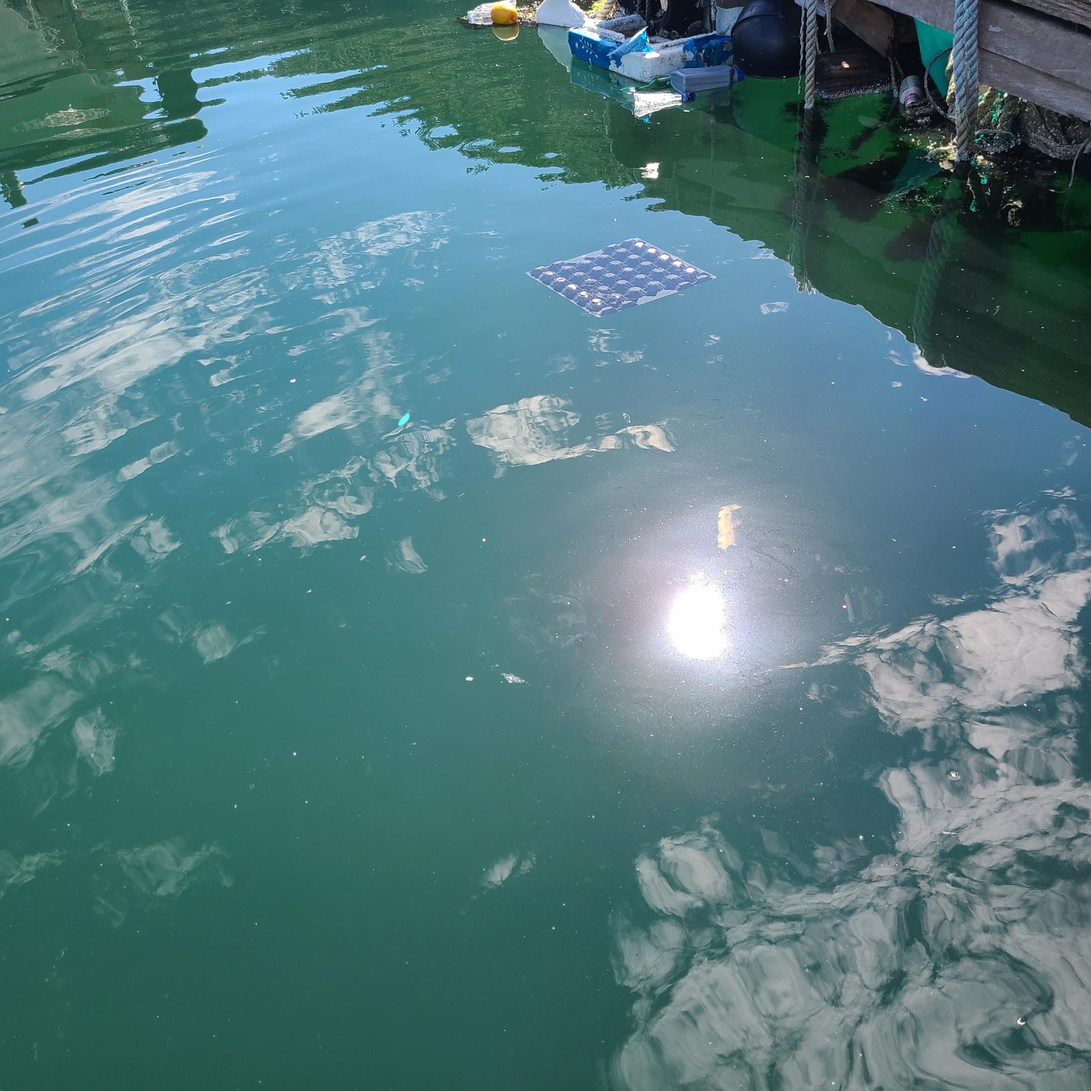sampah_terapung: (568, 15, 732, 83), (731, 1, 827, 81), (670, 65, 744, 95), (537, 1, 607, 29), (468, 1, 517, 20), (634, 93, 698, 107), (899, 76, 924, 108), (491, 5, 518, 25)
